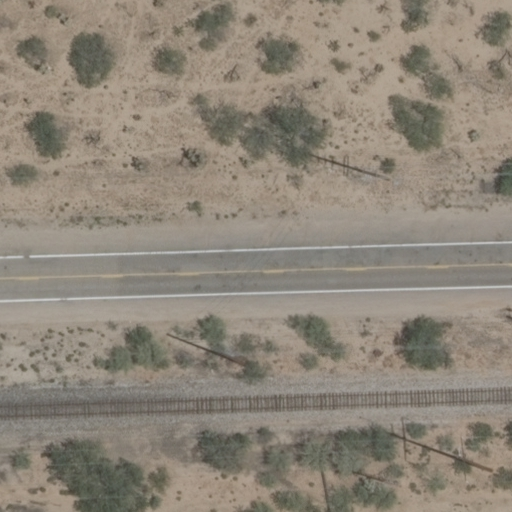DT: (394, 428, 489, 470), (172, 331, 258, 367), (313, 153, 389, 181)
